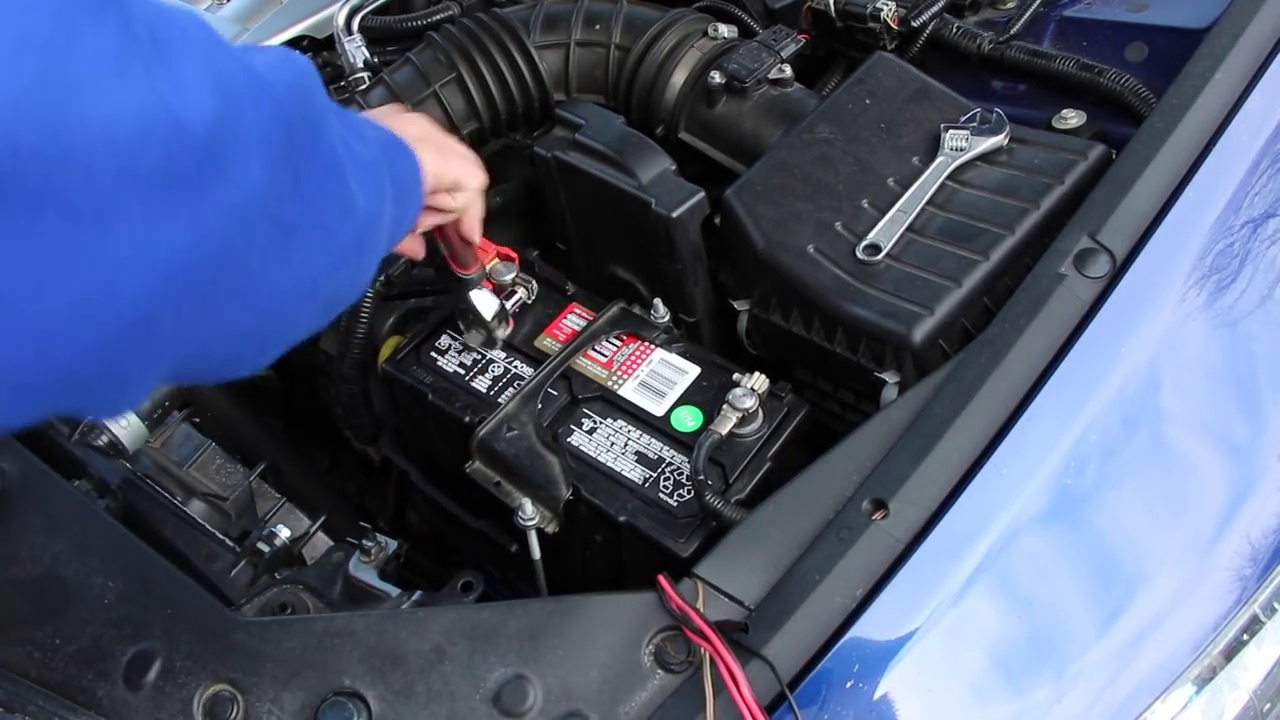battery: (387, 246, 794, 559)
neg_connected: (692, 350, 769, 476)
pos_touched: (380, 137, 550, 351)
